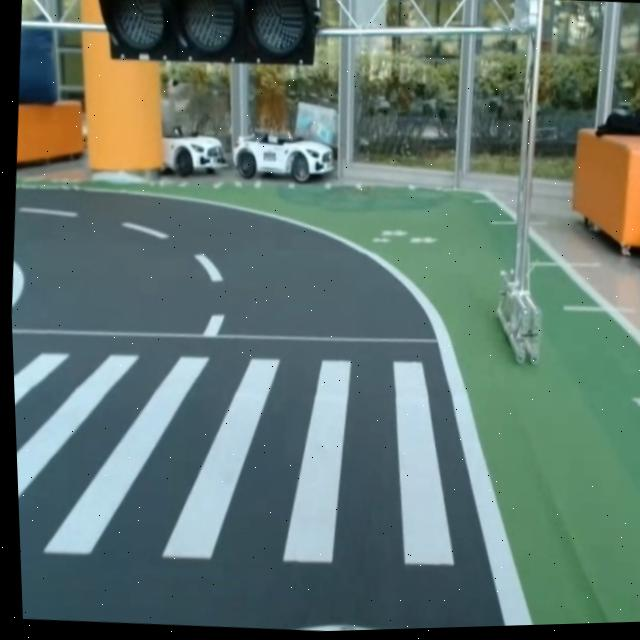traffic-light: (92, 0, 330, 76)
